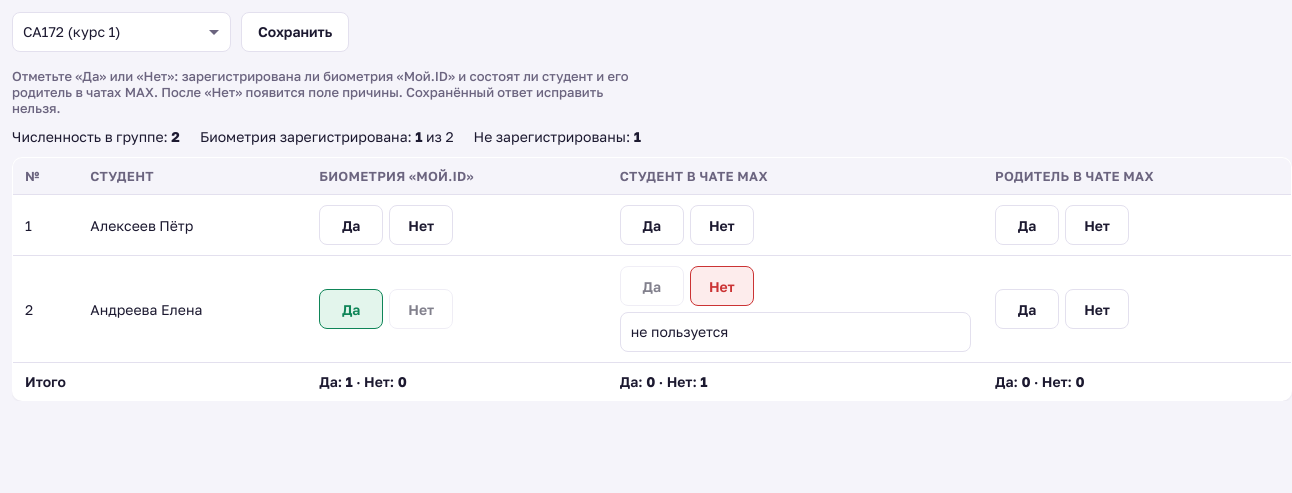
MyIdPanel — «Мой ID»: две кнопки «Да» / «Нет» › ответы и причина сохраняются одним запросом; сохранённое потом блокируется
Expected: the text "Алексеев Пётр" is shown, top-left (78, 194), bottom-right (307, 256)
Click the 1st button "Нет" at (421, 225), box top-left (389, 205), bottom-right (453, 245)
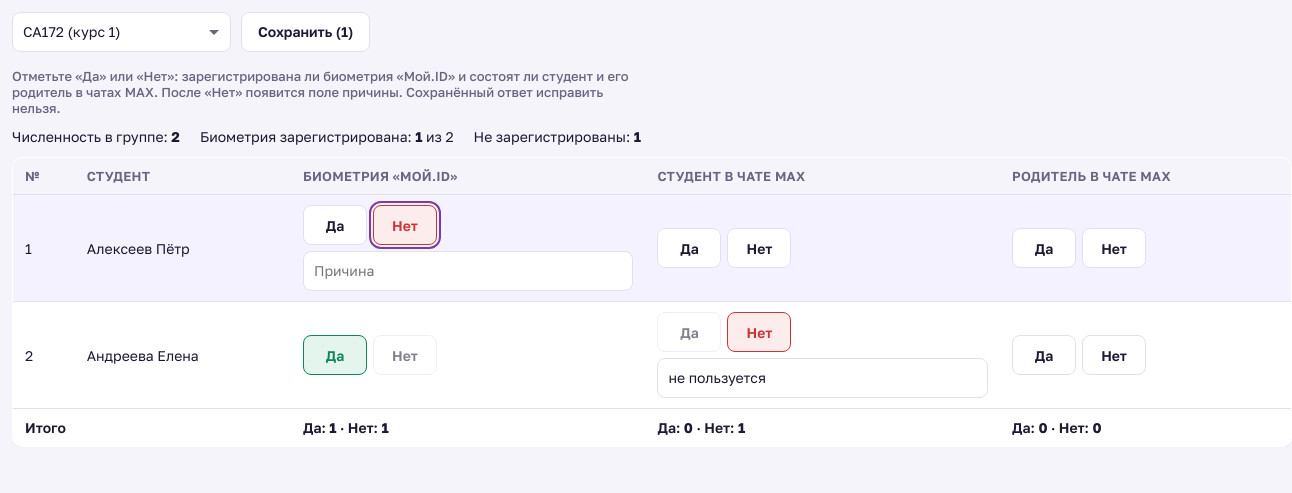
Type "тех. трудности" into the field with placeholder "Причина" at (468, 271), box top-left (303, 251), bottom-right (633, 291)
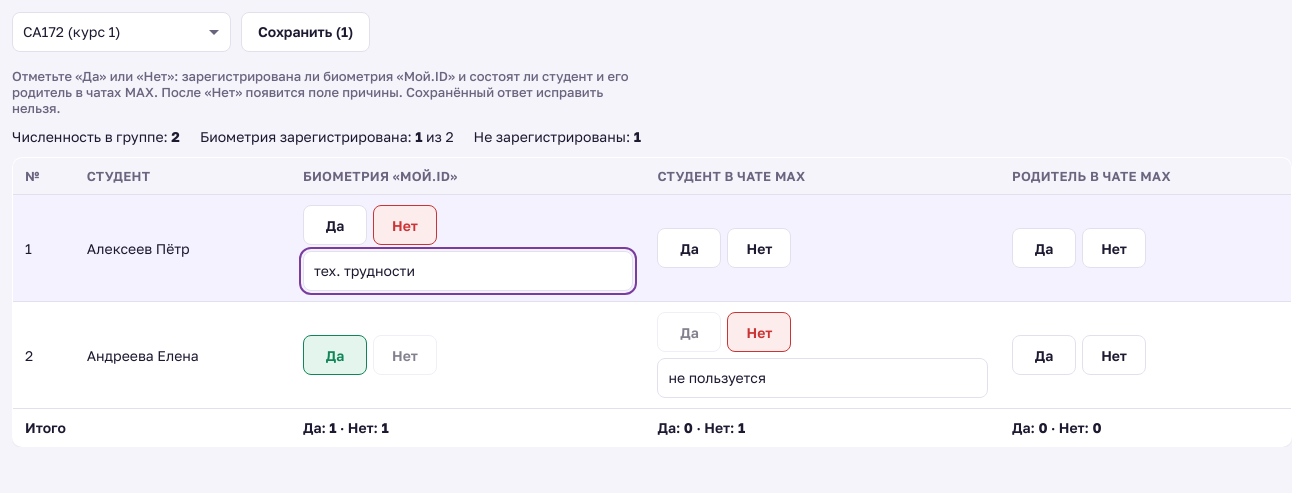
Expected: the button "Сохранить (1)" is enabled
Click the button "Сохранить (1)" at (306, 32), box top-left (241, 12), bottom-right (370, 52)
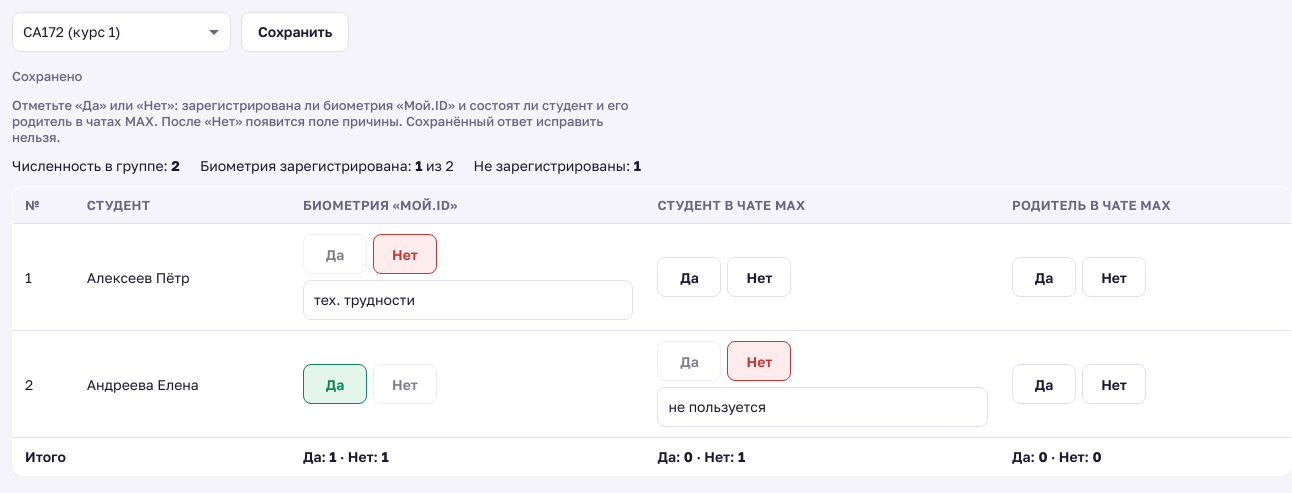
Expected: the text "Сохранено" is shown, top-left (12, 68), bottom-right (82, 84)
Expected: the button "Сохранить" is disabled, top-left (241, 12), bottom-right (349, 52)
